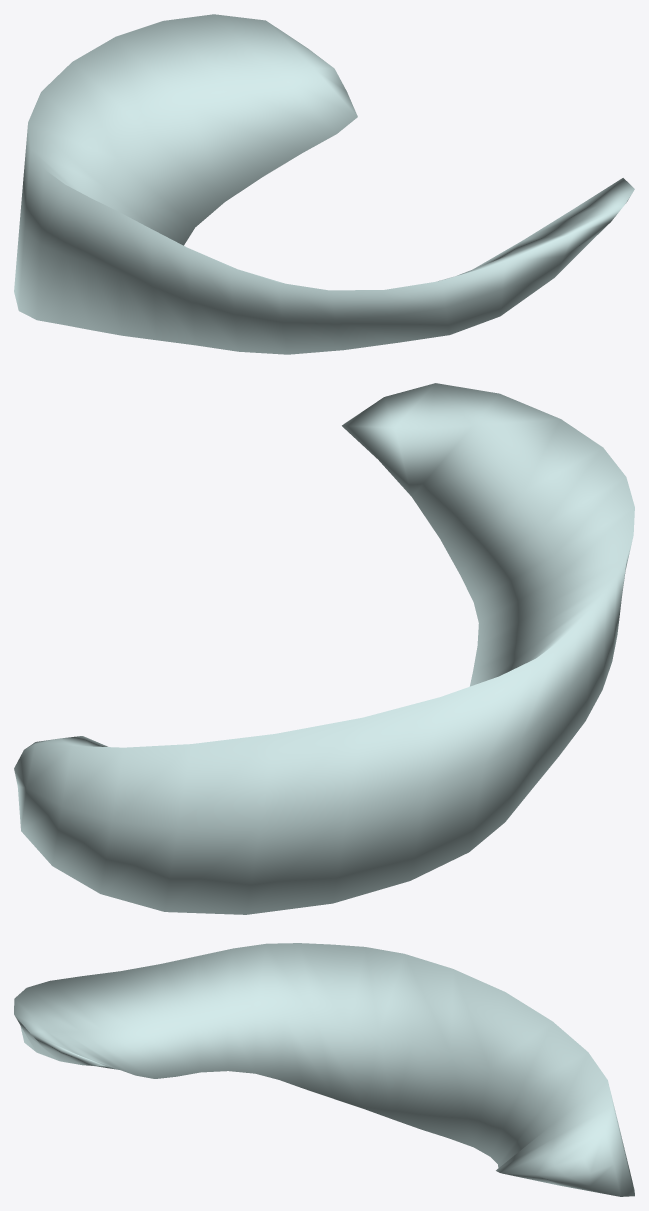
File: Medial_meniscus.l_Generated_Mesh_From_X3D.047.glb
3 views of the same model, one above another, from view 1: azimuth 30°, elevation 25°; view 2: azimuth 150°, elevation 25°; view 3: azimuth 270°, elevation 25° (orthographic). The views are drawn at different scales.
Parts seen in each view (by area): view 1: Medial_meniscus.l_Generated_Mesh_From_X3D.047; view 2: Medial_meniscus.l_Generated_Mesh_From_X3D.047; view 3: Medial_meniscus.l_Generated_Mesh_From_X3D.047.
Boxes of the visible parts, box(x1,y1,x2,y2) form: Medial_meniscus.l_Generated_Mesh_From_X3D.047: box(14, 14, 634, 354); Medial_meniscus.l_Generated_Mesh_From_X3D.047: box(14, 383, 634, 914); Medial_meniscus.l_Generated_Mesh_From_X3D.047: box(14, 943, 634, 1196).
Bounding box in the file's own units: 0.0258 × 0.0149 × 0.0447.
